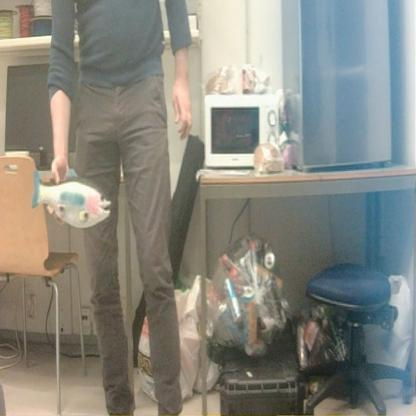rubberfish: (29, 163, 113, 233)
